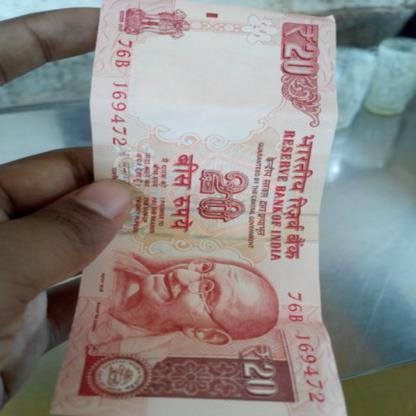Old20Front: (48, 0, 348, 416)
